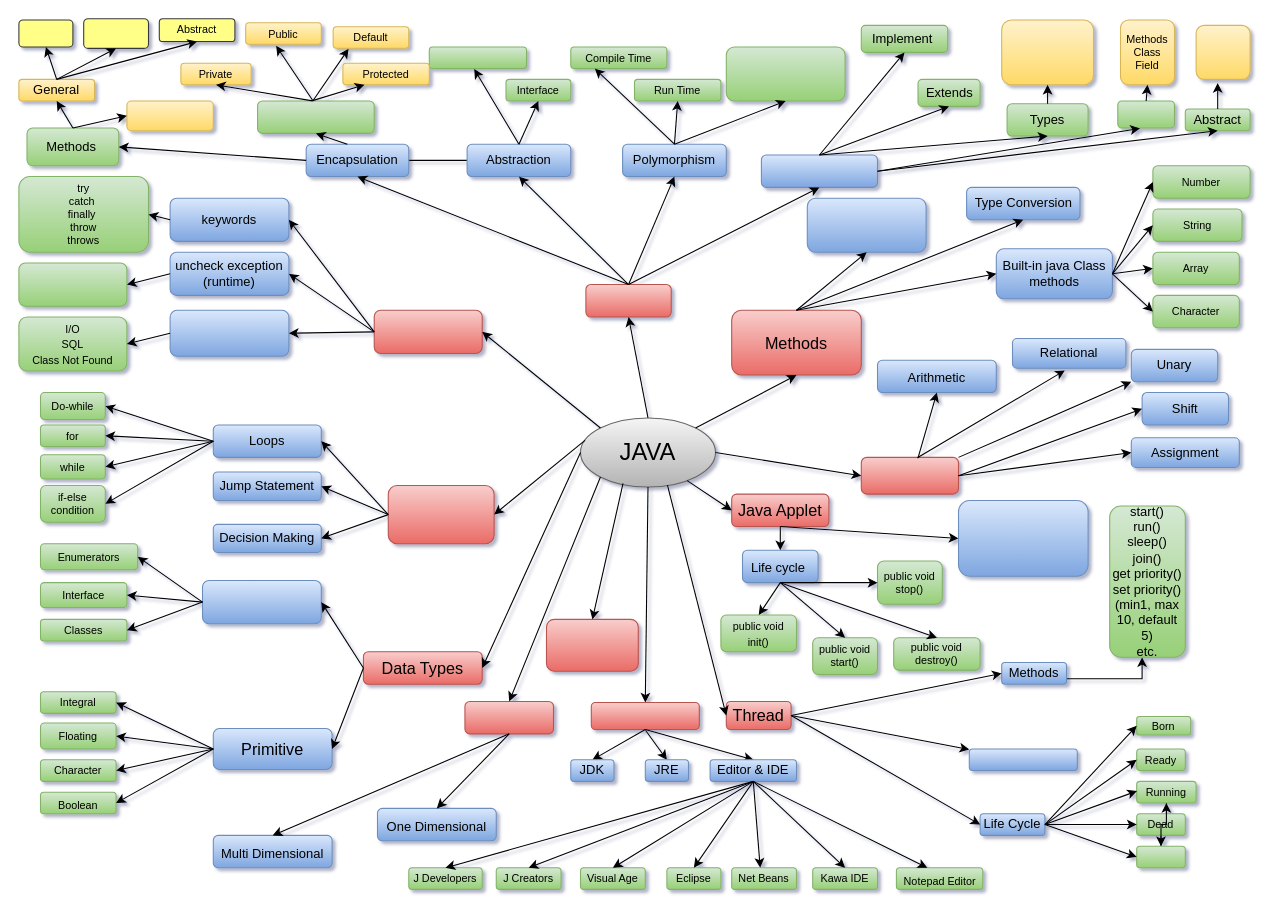
Some shapes in this 1275 by 916 pixel diagram are drawn without their labels. The centre of each missing label's shape, as x and y in pixels:
"Abstract Classes" belongs at point 477,57.
"Access Modifier" belongs at point 315,116.
"Allows Overloading(Same signature but different body content)" belongs at point 785,73.
"Arithmetic Null Pointer Index out of Bounds" belongs at point 72,284.
"Arrays" belongs at point 509,717.
"Block" belongs at point 1160,856.
"check exception (compile time)" belongs at point 229,332.
"Class Method" belongs at point 1222,51.
"Classes megered into HTML code and running browser" belongs at point 1022,538.
"Concrete" belongs at point 45,33.
"Control Statement" belongs at point 440,514.
"Event Handling" belongs at point 591,644.
"Exception" belongs at point 427,331.
"F inal" belongs at point 1145,114.
"Final" belongs at point 115,33.
"Inheritance" belongs at point 819,170.
"OOPs" belongs at point 628,300.
"Operators" belongs at point 909,475.
"Passing and returning arguments" belongs at point 866,224.
"Single Multilevel Hierarchial Hybrid" belongs at point 1047,52.
"Special (Constructor)" belongs at point 169,115.
"Synchronization" belongs at point 1022,759.
"Tools Used" belongs at point 644,715.
"User Defined" belongs at point 261,601.
